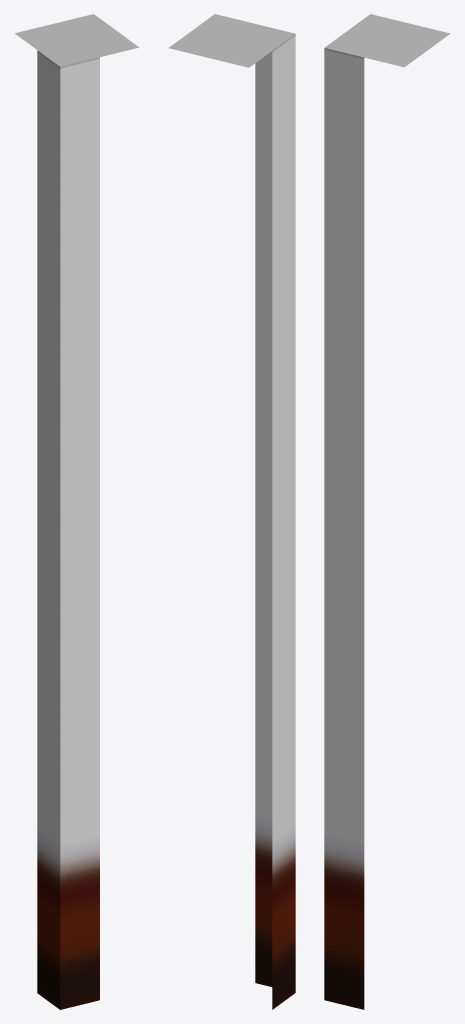
Rendered from W_I__Eckverschluß [Weiß]_394.glb.
The picture shows the model from 3 angles, left to right: view 1: azimuth 30°, elevation 25°; view 2: azimuth 150°, elevation 25°; view 3: azimuth 330°, elevation 25°; orthographic projection.
Parts seen in each view (by area): view 1: pPlaneShape7, pPlaneShape11; view 2: pPlaneShape7, pPlaneShape11; view 3: pPlaneShape7, pPlaneShape11.
Boxes of the visible parts, x1=… form: pPlaneShape7: x1=37, y1=50, x2=99, y2=1009; pPlaneShape11: x1=15, y1=14, x2=139, y2=66; pPlaneShape7: x1=255, y1=34, x2=295, y2=1009; pPlaneShape11: x1=168, y1=14, x2=295, y2=67; pPlaneShape7: x1=324, y1=48, x2=364, y2=1009; pPlaneShape11: x1=324, y1=14, x2=450, y2=67.
Size of the model in its own units: 0.0307 by 0.3486 by 0.0307.
Materials: 2 (1 with a texture image).
